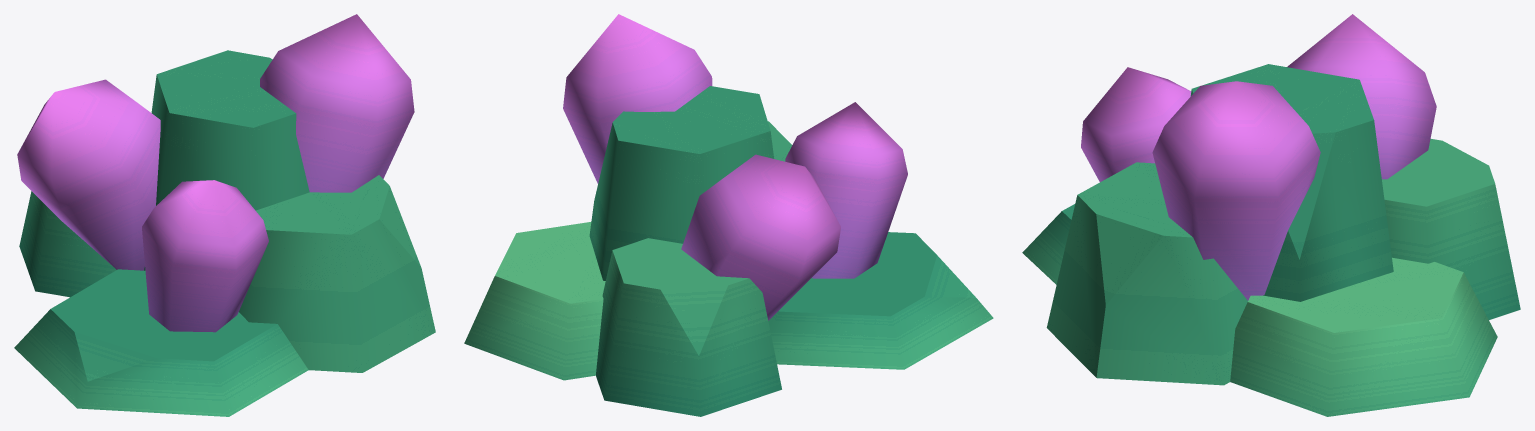
Rendered from detail-crystal-large.glb.
The picture shows the model from 3 angles, left to right: view 1: azimuth 30°, elevation 25°; view 2: azimuth 150°, elevation 25°; view 3: azimuth 270°, elevation 25°; orthographic projection. The views are drawn at different scales.
Visible parts, largest first — view 1: detail-crystal-large; view 2: detail-crystal-large; view 3: detail-crystal-large.
Part boxes in pixels (bbox=[...]): detail-crystal-large: bbox=[14, 14, 435, 416]; detail-crystal-large: bbox=[464, 14, 993, 416]; detail-crystal-large: bbox=[1022, 14, 1520, 416].
Size of the model in its own units: 0.8922 by 0.5518 by 0.8593.
Materials: 1 (1 with a texture image).
